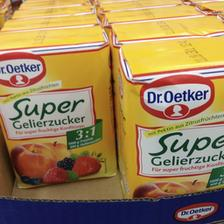Zucker: (0, 24, 116, 190), (109, 35, 223, 197)
